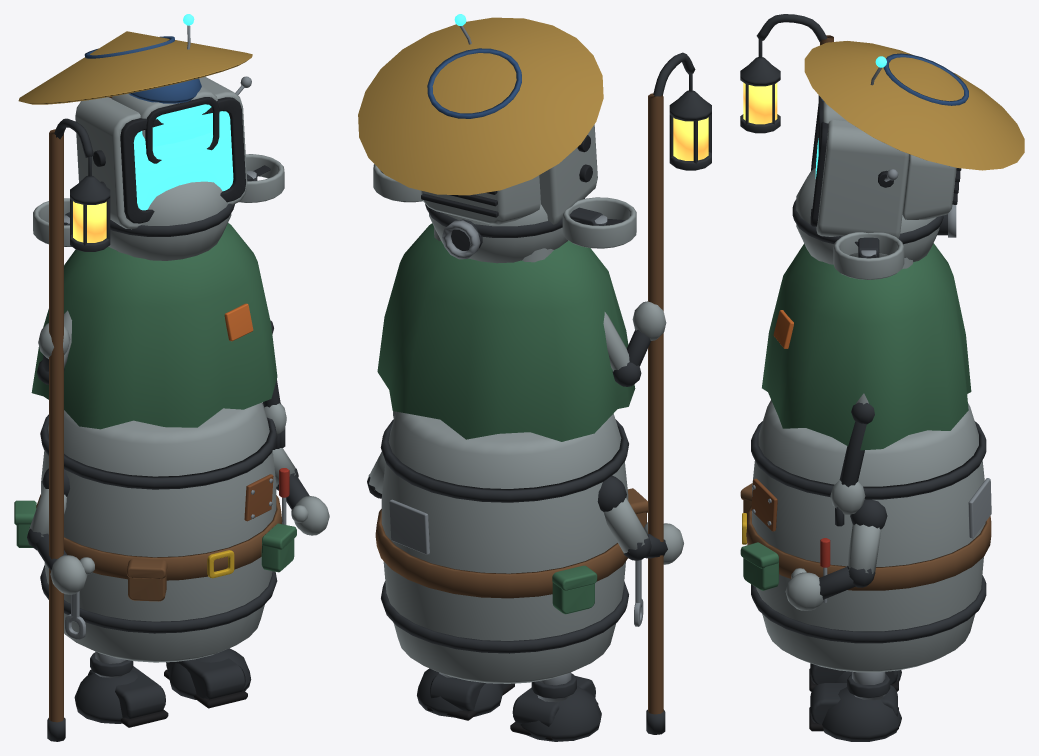
Rendered from npcs.glb.
3 views of the same model, side by side, from view 1: azimuth 30°, elevation 25°; view 2: azimuth 150°, elevation 25°; view 3: azimuth 270°, elevation 25° (orthographic). The views are drawn at different scales.
Parts seen in each view (by area): view 1: Body (×3), Head (×2), Face (×2); view 2: Body (×3), Head; view 3: Body (×3), Head (×2).
Boxes of the visible parts, x1=… form: Body (×3): x1=14, y1=118, x2=329, y2=741; Head (×2): x1=18, y1=14, x2=252, y2=229; Face (×2): x1=133, y1=104, x2=233, y2=210; Body (×3): x1=367, y1=52, x2=711, y2=741; Head: x1=358, y1=17, x2=603, y2=224; Body (×3): x1=740, y1=14, x2=991, y2=741; Head (×2): x1=804, y1=41, x2=1024, y2=238.
Size of the model in its own units: 0.7658 by 1.76 by 0.6823.
